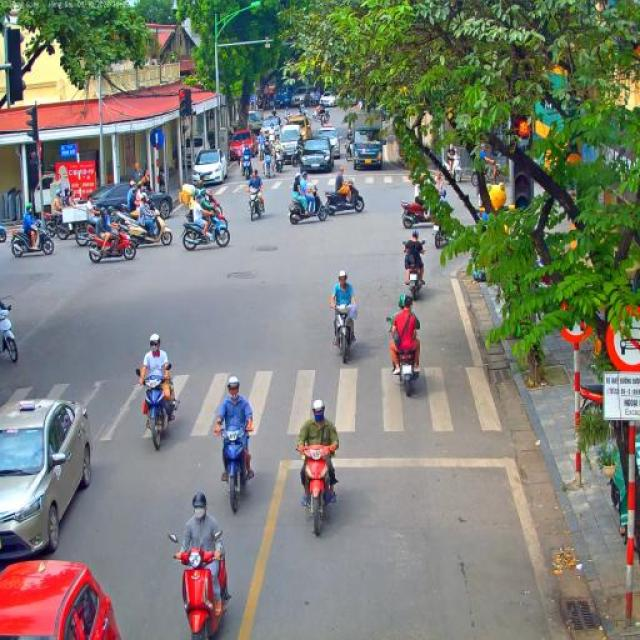car: (0, 393, 92, 556), (0, 557, 121, 640), (74, 182, 174, 220), (192, 148, 228, 187), (300, 136, 334, 175), (279, 125, 302, 164), (316, 123, 340, 157), (284, 116, 310, 145), (231, 130, 253, 161), (260, 117, 280, 142), (318, 90, 338, 110), (292, 86, 310, 106)
motorcycle: (167, 530, 232, 640), (295, 442, 336, 538), (136, 362, 180, 450), (218, 418, 252, 514), (386, 315, 419, 397), (82, 218, 136, 264), (114, 211, 174, 248), (182, 210, 230, 250), (10, 222, 56, 258), (287, 187, 328, 226), (324, 177, 365, 216), (332, 302, 358, 363), (402, 240, 428, 301), (399, 200, 442, 229), (43, 211, 86, 240), (0, 303, 19, 363), (192, 197, 224, 217), (248, 189, 264, 221), (444, 152, 461, 182), (432, 223, 451, 249), (262, 152, 276, 178), (239, 153, 253, 178), (290, 144, 302, 168), (274, 148, 284, 174), (344, 138, 354, 162), (266, 130, 276, 152), (312, 110, 324, 128), (298, 111, 312, 125), (320, 108, 330, 122), (258, 144, 264, 164), (0, 222, 6, 242), (256, 134, 263, 150), (282, 115, 292, 125)
truck: (350, 112, 384, 172), (274, 78, 295, 108), (246, 110, 262, 138)
